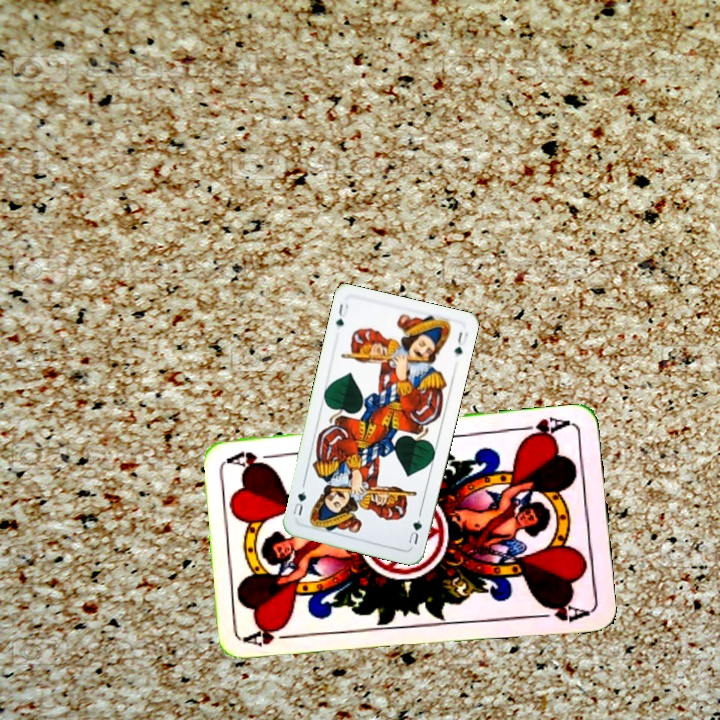GU: (404, 516, 425, 547), (332, 299, 351, 329)
HA: (515, 413, 574, 443), (242, 622, 301, 650)
